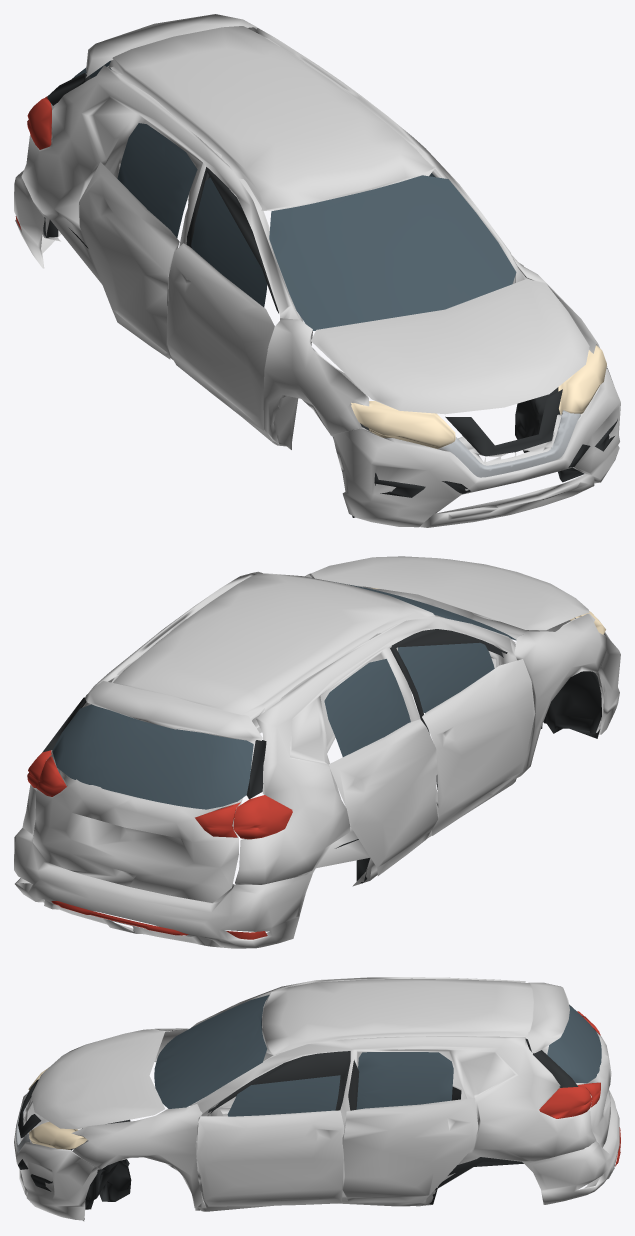
File: nissan-rogue-2020.glb
3 views of the same model, one above another, from view 1: azimuth 30°, elevation 25°; view 2: azimuth 150°, elevation 25°; view 3: azimuth 270°, elevation 25° (orthographic). The views are drawn at different scales.
Visible parts, largest first — view 1: nissan-rogue-2020; view 2: nissan-rogue-2020; view 3: nissan-rogue-2020.
Boxes of the visible parts, bbox=[...] form: nissan-rogue-2020: bbox=[14, 14, 620, 527]; nissan-rogue-2020: bbox=[14, 556, 620, 948]; nissan-rogue-2020: bbox=[14, 977, 620, 1220].
Bounding box in the file's own units: 1.82 × 1.52 × 4.69.
